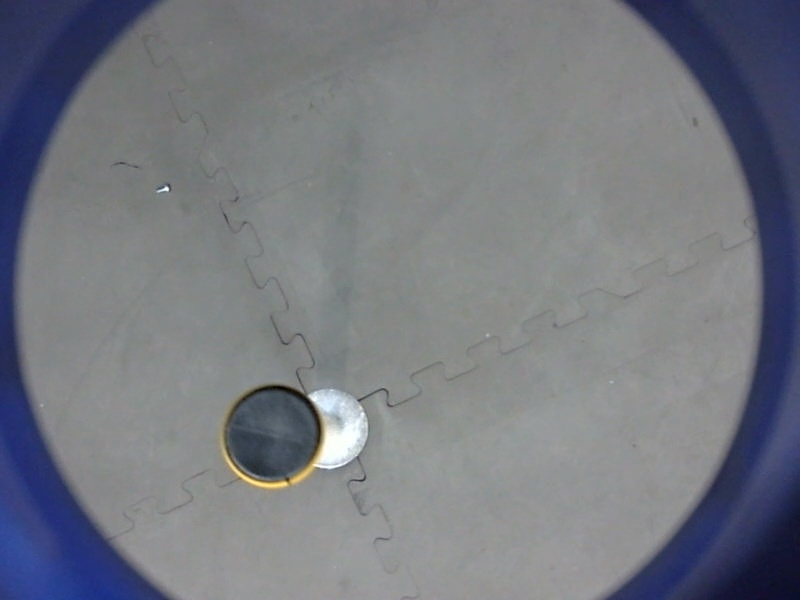tip: (212, 379, 330, 495)
